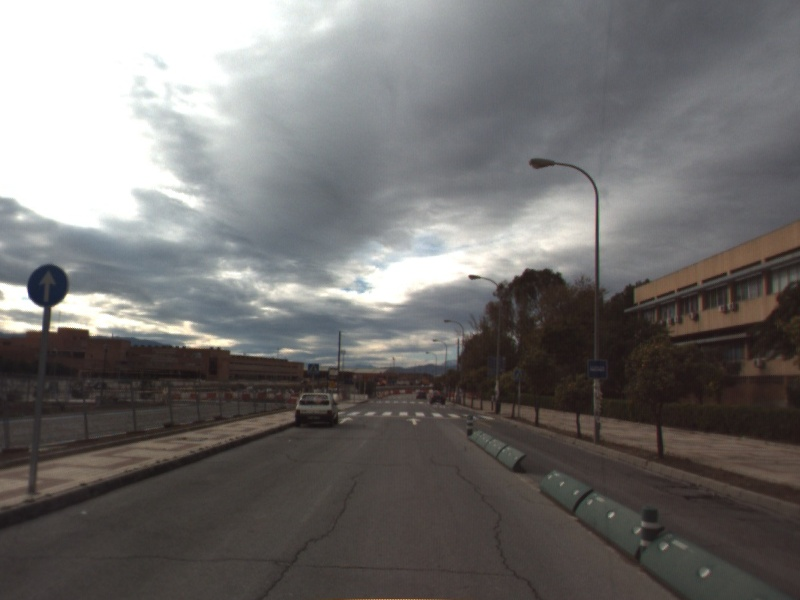STRAIGHT: (404, 416, 424, 427), (336, 415, 355, 426)
